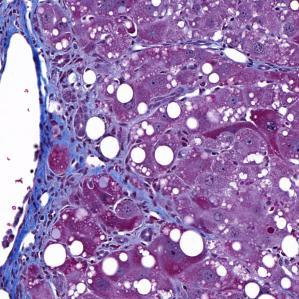fibrosis: (43, 48, 114, 179), (117, 168, 174, 230)
